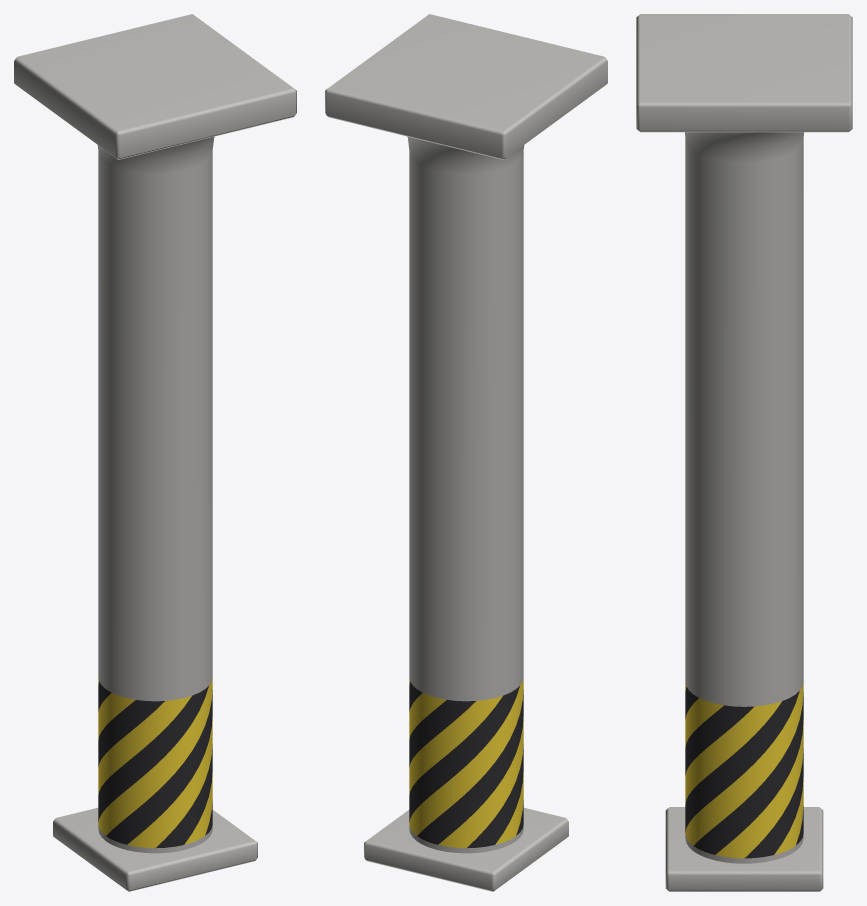
Rendered from Column.fbx.
3 renders of one model, left to right at view 1: azimuth 30°, elevation 25°; view 2: azimuth 150°, elevation 25°; view 3: azimuth 270°, elevation 25°, orthographic. The views are drawn at different scales.
Parts seen in each view (by area): view 1: Column; view 2: Column; view 3: Column.
Boxes of the visible parts, box(x1,y1,x2,y2) form: Column: box(14, 14, 296, 891); Column: box(325, 14, 607, 891); Column: box(636, 14, 852, 891).
Bounding box in the file's own units: 1.1 × 4.5 × 1.1.
